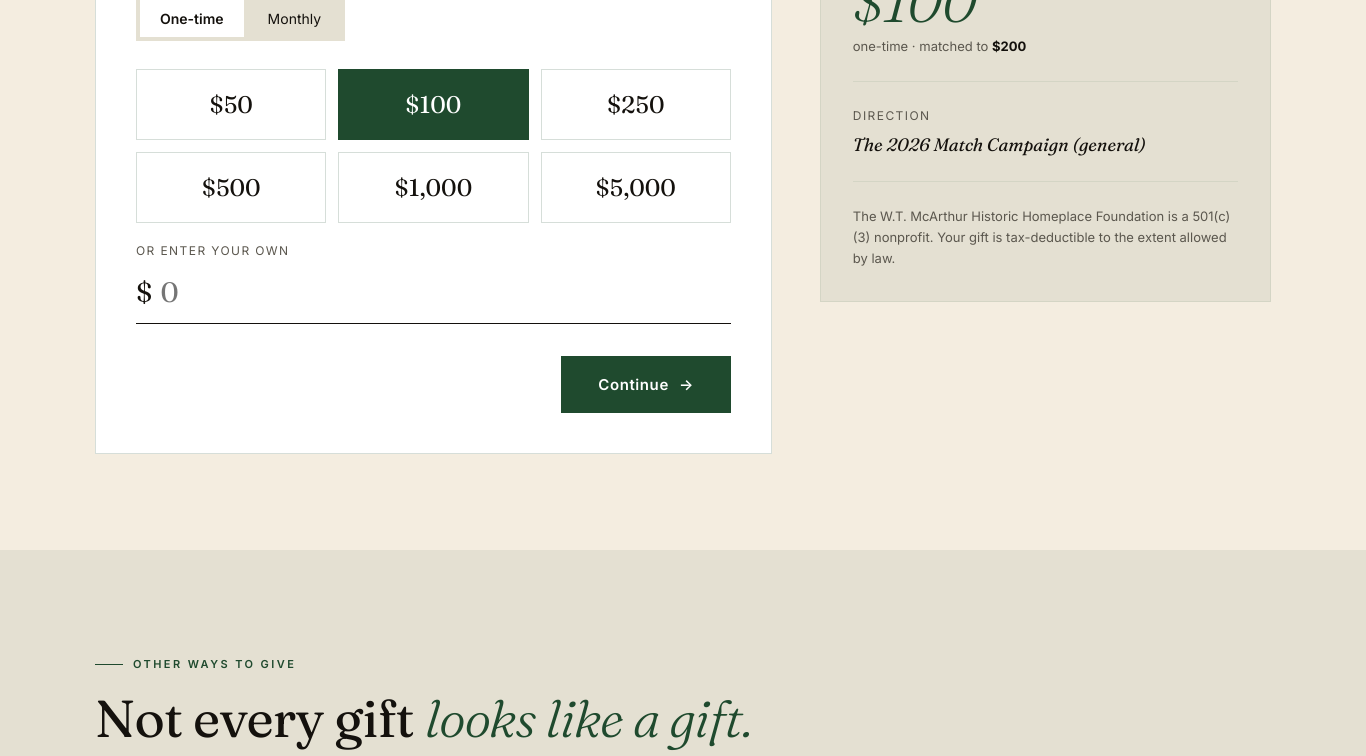
Test: DonateForm step machine › lets the donor go Back from Designation to Amount
This screenshot has width=1366, height=756.
(page scrolled)
Click the button "Continue →": coordinates (646, 384) [561,356,731,413]
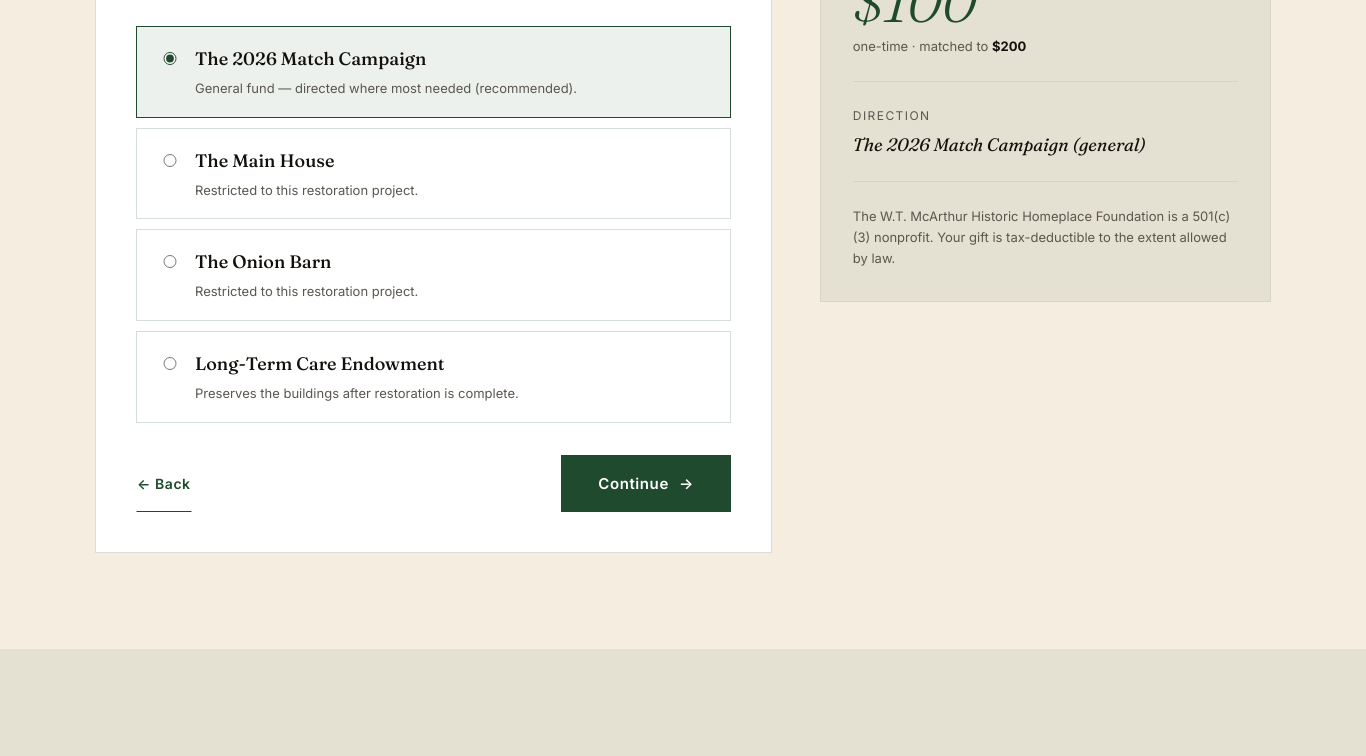
Click the button "← Back": coordinates (164, 483) [136,455,192,512]
(page scrolled)
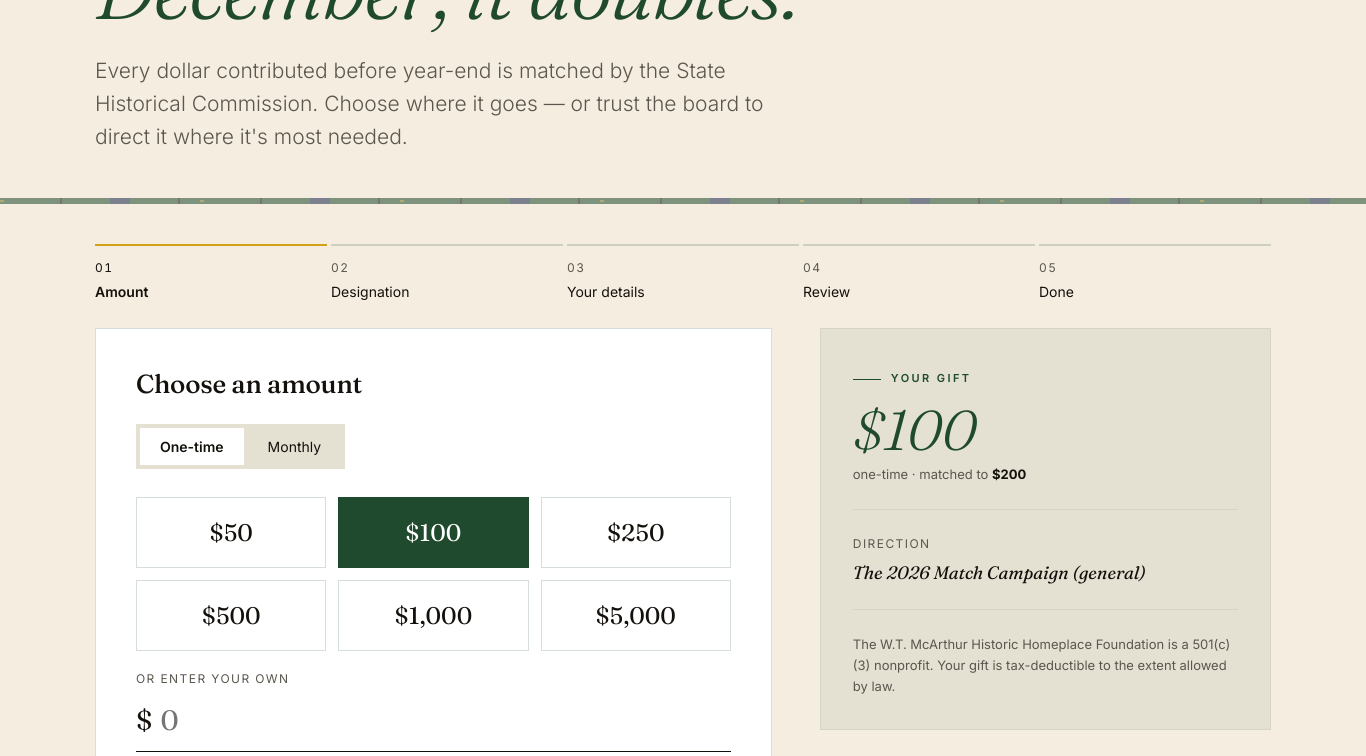
Now the heading "Choose an amount" is shown, box [136,368,362,400]
